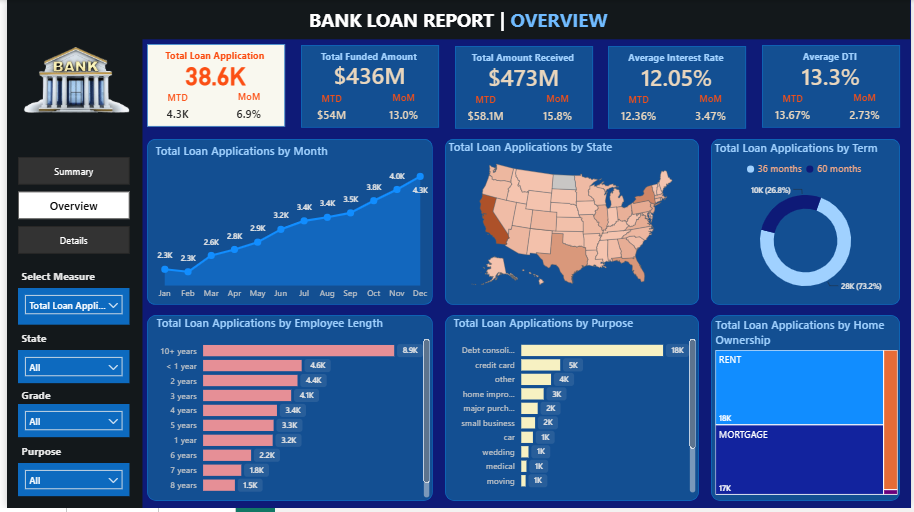

Layout of this report page (visuals, bound fields, positions):
{"tool":"powerbi","page":{"name":"Overview","canvas":[1280,720],"ordinal":1},"visuals":[{"type":"shape","box":[0,0,1280,55.7],"z":0},{"type":"shape","box":[0,55.3,192,664.7],"z":1000},{"type":"textbox","box":[415.7,4.3,448.6,45.7],"z":2000},{"type":"group","id":"g1","title":"Group 1","box":[198.6,62.9,195.7,117.1],"z":3000},{"type":"shape","box":[198.6,62.9,195.7,117.1],"z":3000,"group":"g1"},{"type":"shape","box":[416.4,63.6,195.7,117.1],"z":3000,"group":"g2"},{"type":"shape","box":[1070,64.3,195.7,117.1],"z":3000,"group":"g5"},{"type":"shape","box":[634.3,65,195.7,117.1],"z":3000,"group":"g3"},{"type":"shape","box":[852.1,65.7,195.7,117.1],"z":3000,"group":"g4"},{"type":"group","id":"g2","title":"Group 1","box":[416.4,63.6,195.7,117.1],"z":4000},{"type":"cardVisual","fields":{"Data":["financial_loan.Total Loan Applications"]},"box":[217.2,71.5,157.1,72.9],"z":4000,"group":"g1"},{"type":"cardVisual","fields":{"Data":["financial_loan.Total Funded Amount"]},"box":[434,72.4,161.4,65.7],"z":4000,"group":"g2"},{"type":"cardVisual","fields":{"Data":["financial_loan.Avg DTI"]},"box":[1087.1,74.7,160,64.3],"z":4000,"group":"g5"},{"type":"cardVisual","fields":{"Data":["financial_loan.Total Amount Received"]},"box":[651.4,75.4,160,64.3],"z":4000,"group":"g3"},{"type":"cardVisual","fields":{"Data":["financial_loan.Avg Interest Rate"]},"box":[869.2,76.1,160,64.3],"z":4000,"group":"g4"},{"type":"textbox","box":[214.3,65.8,161.4,45.7],"z":5000,"group":"g1"},{"type":"textbox","box":[432.1,66.5,161.4,45.7],"z":5000,"group":"g2"},{"type":"textbox","box":[1085.7,67.2,161.4,45.7],"z":5000,"group":"g5"},{"type":"textbox","box":[650,67.9,161.4,45.7],"z":5000,"group":"g3"},{"type":"textbox","box":[867.8,68.6,161.4,45.7],"z":5000,"group":"g4"},{"type":"shape","box":[198.4,197,405,235],"z":5000},{"type":"group","id":"g3","title":"Group 1","box":[634.3,65,195.7,117.1],"z":6000},{"type":"cardVisual","title":"MTD","fields":{"Data":["financial_loan.MTD Loan Applications"]},"box":[198.6,130,87.1,47.1],"z":6000,"group":"g1"},{"type":"cardVisual","title":"MTD","fields":{"Data":["financial_loan.MTD Funded Amount"]},"box":[416.4,130.7,87.1,47.1],"z":6000,"group":"g2"},{"type":"cardVisual","title":"MTD","fields":{"Data":["financial_loan.MTD Avg DTI"]},"box":[1070,131.4,87.1,47.1],"z":6000,"group":"g5"},{"type":"cardVisual","title":"MTD","fields":{"Data":["financial_loan.MTD Total Amount Received"]},"box":[634.3,132.1,87.1,47.1],"z":6000,"group":"g3"},{"type":"cardVisual","title":"MTD","fields":{"Data":["financial_loan.MTD Avg Int Rate"]},"box":[852.1,132.8,87.1,47.1],"z":6000,"group":"g4"},{"type":"group","id":"g4","title":"Group 1","box":[852.1,65.7,195.7,117.1],"z":7000},{"type":"cardVisual","title":"MoM","fields":{"Data":["financial_loan.MoM Total Funded Amount"]},"box":[528.2,128.1,67.1,51.4],"z":7000,"group":"g2"},{"type":"cardVisual","title":"MoM","fields":{"Data":["financial_loan.MoM Loan Applications"]},"box":[310,128.6,65.7,50],"z":7000,"group":"g1"},{"type":"cardVisual","title":"MoM","fields":{"Data":["financial_loan.MoM Avg DTI"]},"box":[1181.8,128.8,67.1,51.4],"z":7000,"group":"g5"},{"type":"cardVisual","title":"MoM","fields":{"Data":["financial_loan.MoM Total Amount Received"]},"box":[746.1,129.5,67.1,51.4],"z":7000,"group":"g3"},{"type":"cardVisual","title":"MoM","fields":{"Data":["financial_loan.MoM Avg Int Rate"]},"box":[963.9,130.2,67.1,51.4],"z":7000,"group":"g4"},{"type":"group","id":"g5","title":"Group 1","box":[1070,64.3,195.7,117.1],"z":8000},{"type":"slicer","fields":{"Values":["financial_loan.address_state"]},"box":[16.3,496.4,158.2,47.3],"z":9000},{"type":"textbox","box":[16.3,463.9,81.3,42.9],"z":10000},{"type":"slicer","fields":{"Values":["financial_loan.grade"]},"box":[16.3,573.2,158.2,47.3],"z":11000},{"type":"textbox","box":[16.3,543.7,81.3,42.9],"z":12000},{"type":"textbox","box":[16.3,623.6,81.3,42.9],"z":13000},{"type":"slicer","fields":{"Values":["financial_loan.purpose"]},"box":[16.3,656.1,158.2,47.3],"z":14000},{"type":"areaChart","fields":{"Y":["financial_loan.Total Loan Applications"],"Category":["Date Table.Month"]},"box":[205.5,202.7,398.3,231],"z":15000},{"type":"slicer","fields":{"Values":["Select Measure.Select Measure"]},"box":[16.3,407.9,158.2,51.7],"z":16000},{"type":"textbox","box":[16.3,375.4,130.1,42.9],"z":17000},{"type":"shape","box":[620.8,197,360,235.3],"z":18000},{"type":"shapeMap","fields":{"Value":["financial_loan.Total Loan Applications"],"Category":["financial_loan.address_state"]},"box":[620.8,197,360,221.1],"z":19000},{"type":"shape","box":[997.8,197,267.9,235.3],"z":20000},{"type":"donutChart","fields":{"Y":["financial_loan.Total Loan Applications"],"Category":["financial_loan.term"]},"box":[997.8,198.4,267.9,235.3],"z":21000},{"type":"shape","box":[198.4,446.5,405.4,263.6],"z":22000},{"type":"barChart","fields":{"Y":["financial_loan.Total Loan Applications"],"Category":["financial_loan.emp_length"]},"box":[206.9,446.5,396.9,263.6],"z":23000},{"type":"shape","box":[620.8,446.5,360,263.6],"z":24000},{"type":"barChart","fields":{"Y":["financial_loan.Total Loan Applications"],"Category":["financial_loan.purpose"]},"box":[627.9,446.5,352.9,256.5],"z":25000},{"type":"shape","box":[997.8,446.5,267.9,263.6],"z":26000},{"type":"treemap","fields":{"Values":["financial_loan.Total Loan Applications"],"Group":["financial_loan.home_ownership"]},"box":[999.2,449.3,267.9,256.5],"z":27000},{"type":"pageNavigator","box":[15.6,222.5,158.7,137.5],"z":28000},{"type":"image","box":[18.4,22.7,155.9,181.4],"z":29000}]}

Visuals, with their boxes on the page's 1280x720 design canvas (x1, y1, x2, y2). These are canvas units, not pixel positions in the 914x512 screenshot, which may show the page scaled, cropped or inside an application window:
shape: (0, 0, 1280, 56)
shape: (0, 55, 192, 720)
textbox: (416, 4, 864, 50)
"Group 1" group: (199, 63, 394, 180)
shape: (199, 63, 394, 180)
shape: (416, 64, 612, 181)
shape: (1070, 64, 1266, 181)
shape: (634, 65, 830, 182)
shape: (852, 66, 1048, 183)
"Group 1" group: (416, 64, 612, 181)
cardVisual - financial_loan.Total Loan Applications: (217, 72, 374, 144)
cardVisual - financial_loan.Total Funded Amount: (434, 72, 595, 138)
cardVisual - financial_loan.Avg DTI: (1087, 75, 1247, 139)
cardVisual - financial_loan.Total Amount Received: (651, 75, 811, 140)
cardVisual - financial_loan.Avg Interest Rate: (869, 76, 1029, 140)
textbox: (214, 66, 376, 112)
textbox: (432, 66, 594, 112)
textbox: (1086, 67, 1247, 113)
textbox: (650, 68, 811, 114)
textbox: (868, 69, 1029, 114)
shape: (198, 197, 603, 432)
"Group 1" group: (634, 65, 830, 182)
"MTD" cardVisual: (199, 130, 286, 177)
"MTD" cardVisual: (416, 131, 504, 178)
"MTD" cardVisual: (1070, 131, 1157, 178)
"MTD" cardVisual: (634, 132, 721, 179)
"MTD" cardVisual: (852, 133, 939, 180)
"Group 1" group: (852, 66, 1048, 183)
"MoM" cardVisual: (528, 128, 595, 180)
"MoM" cardVisual: (310, 129, 376, 179)
"MoM" cardVisual: (1182, 129, 1249, 180)
"MoM" cardVisual: (746, 130, 813, 181)
"MoM" cardVisual: (964, 130, 1031, 182)
"Group 1" group: (1070, 64, 1266, 181)
slicer - financial_loan.address_state: (16, 496, 174, 544)
textbox: (16, 464, 98, 507)
slicer - financial_loan.grade: (16, 573, 174, 620)
textbox: (16, 544, 98, 587)
textbox: (16, 624, 98, 666)
slicer - financial_loan.purpose: (16, 656, 174, 703)
areaChart - financial_loan.Total Loan Applications x Date Table.Month: (206, 203, 604, 434)
slicer - Select Measure.Select Measure: (16, 408, 174, 460)
textbox: (16, 375, 146, 418)
shape: (621, 197, 981, 432)
shapeMap - financial_loan.Total Loan Applications x financial_loan.address_state: (621, 197, 981, 418)
shape: (998, 197, 1266, 432)
donutChart - financial_loan.Total Loan Applications x financial_loan.term: (998, 198, 1266, 434)
shape: (198, 446, 604, 710)
barChart - financial_loan.Total Loan Applications x financial_loan.emp_length: (207, 446, 604, 710)
shape: (621, 446, 981, 710)
barChart - financial_loan.Total Loan Applications x financial_loan.purpose: (628, 446, 981, 703)
shape: (998, 446, 1266, 710)
treemap - financial_loan.Total Loan Applications x financial_loan.home_ownership: (999, 449, 1267, 706)
pageNavigator: (16, 222, 174, 360)
image: (18, 23, 174, 204)
